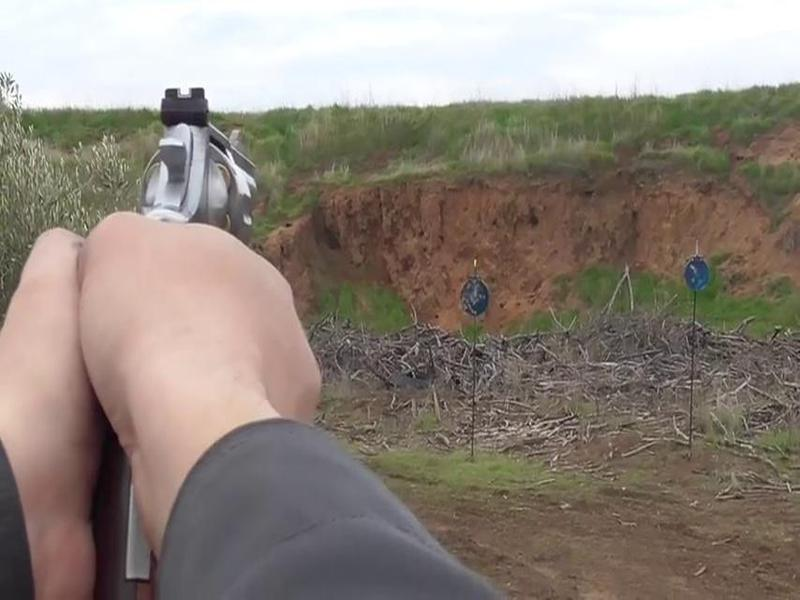Revolver: (126, 70, 276, 294)
